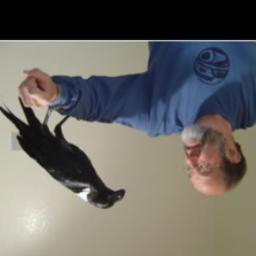Crow: (0, 97, 126, 214)
